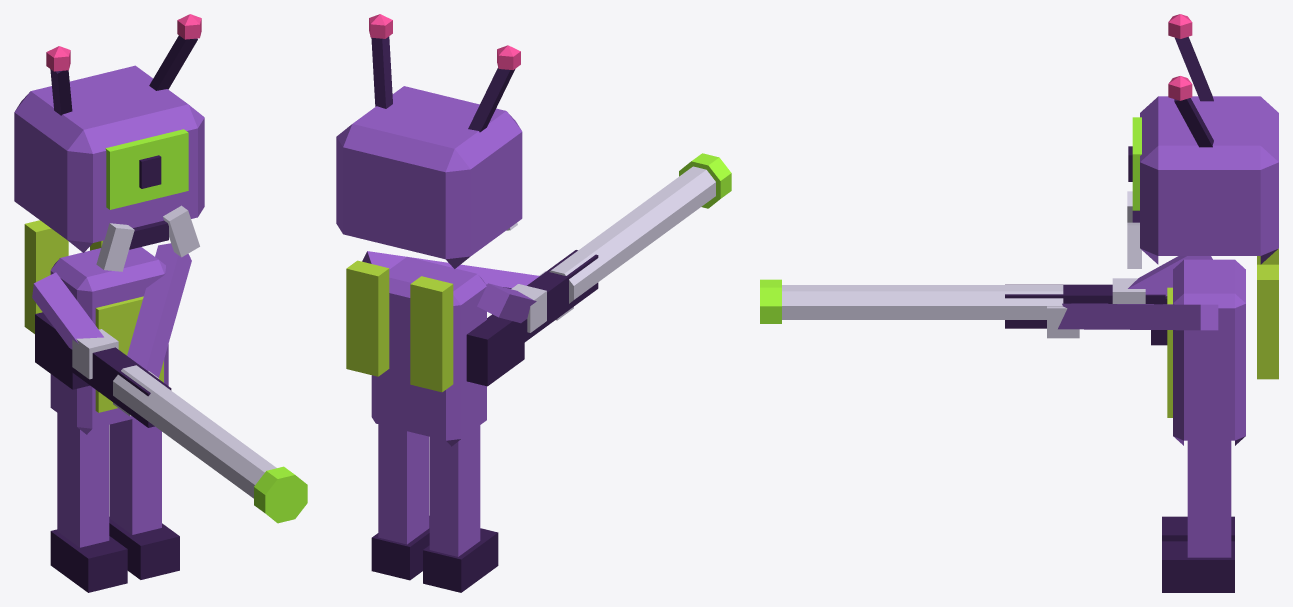
The model's file is sniper_enemy_r11.glb.
3 views of the same model, side by side, from view 1: azimuth 30°, elevation 25°; view 2: azimuth 150°, elevation 25°; view 3: azimuth 270°, elevation 25° (orthographic). The views are drawn at different scales.
Parts seen in each view (by area): view 1: sniper_enemy_r11_mesh; view 2: sniper_enemy_r11_mesh; view 3: sniper_enemy_r11_mesh.
Boxes of the visible parts, bbox=[...] form: sniper_enemy_r11_mesh: bbox=[14, 14, 307, 592]; sniper_enemy_r11_mesh: bbox=[336, 14, 731, 592]; sniper_enemy_r11_mesh: bbox=[760, 14, 1278, 592].
Bounding box in the file's own units: 0.512 × 1.7 × 1.52.
1 material, 1 textured.
